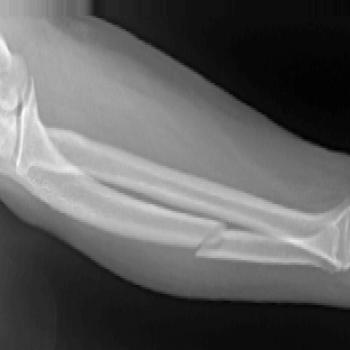Fracture: (193, 221, 219, 268)
